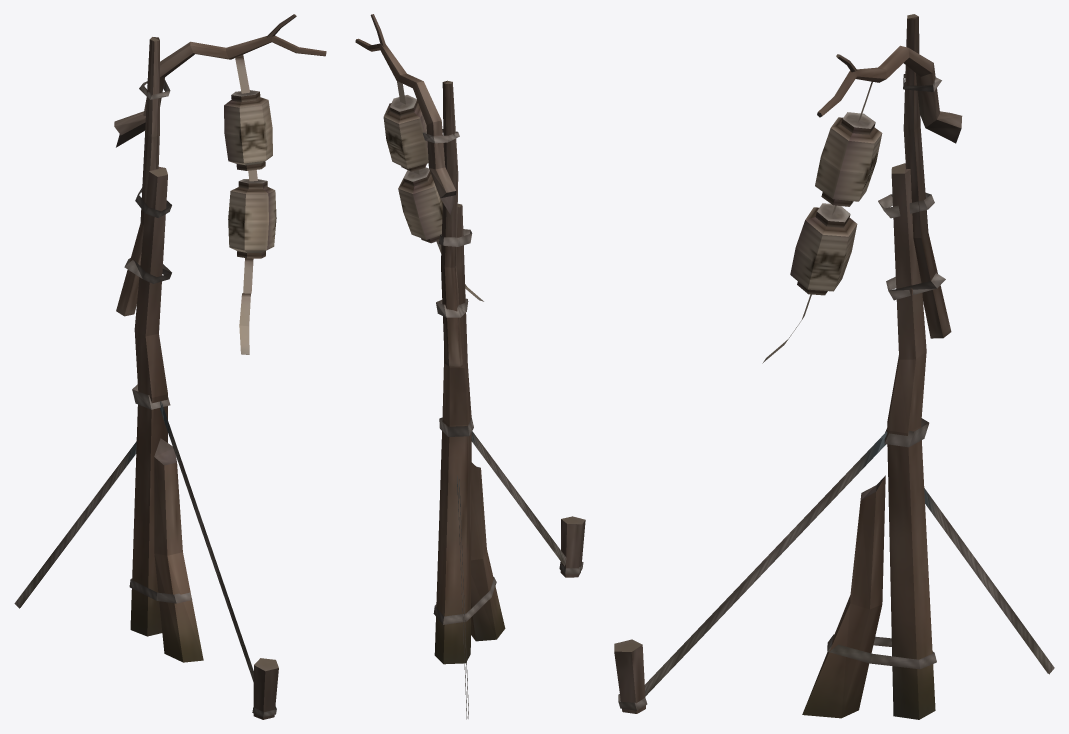
File: 1005_Item_29.FBX
3 views of the same model, side by side, from view 1: azimuth 30°, elevation 25°; view 2: azimuth 150°, elevation 25°; view 3: azimuth 270°, elevation 25° (orthographic). The views are drawn at different scales.
Parts seen in each view (by area): view 1: 1005_Item_29; view 2: 1005_Item_29; view 3: 1005_Item_29.
Boxes of the visible parts, box(x1,y1,x2,y2) form: 1005_Item_29: box(14, 14, 326, 719); 1005_Item_29: box(355, 14, 585, 719); 1005_Item_29: box(614, 14, 1054, 719).
Size of the model in its own units: 204 by 559 by 307.
